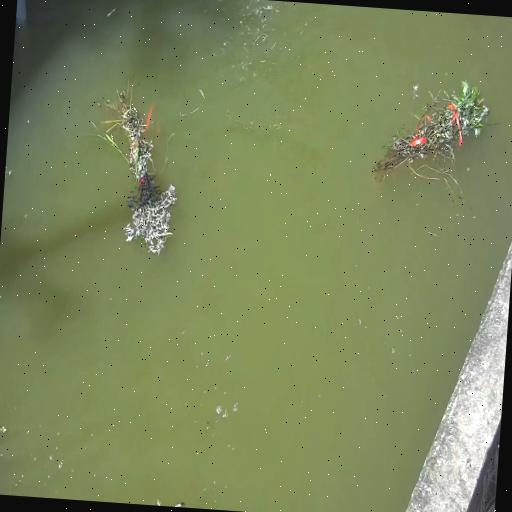twig: (85, 77, 187, 256), (370, 74, 492, 198)
